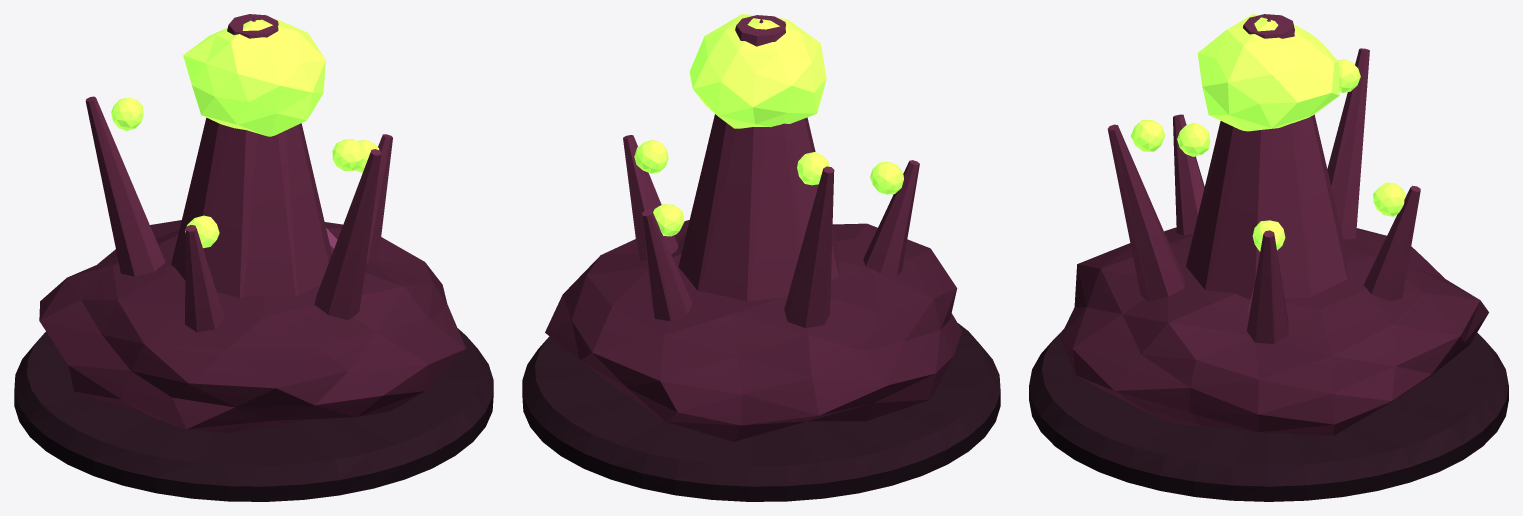
File: creep-spore-spire.glb
The picture shows the model from 3 angles, left to right: view 1: azimuth 30°, elevation 25°; view 2: azimuth 150°, elevation 25°; view 3: azimuth 270°, elevation 25°; orthographic projection.
Size of the model in its own units: 3.4 by 3 by 3.4.
